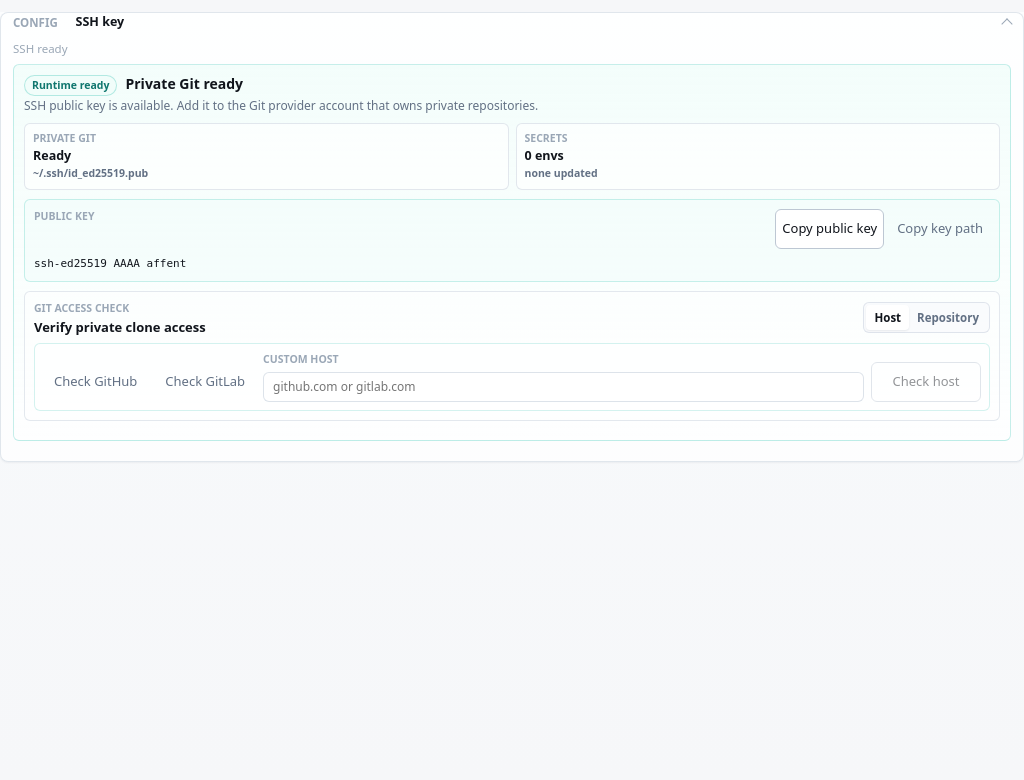
Test: AccountSettingsPanel › diagnoses failed git checks with an actionable cause
Click the tab "Repository".
click(948, 318)  # box x1=909 y1=305 x2=987 y2=330
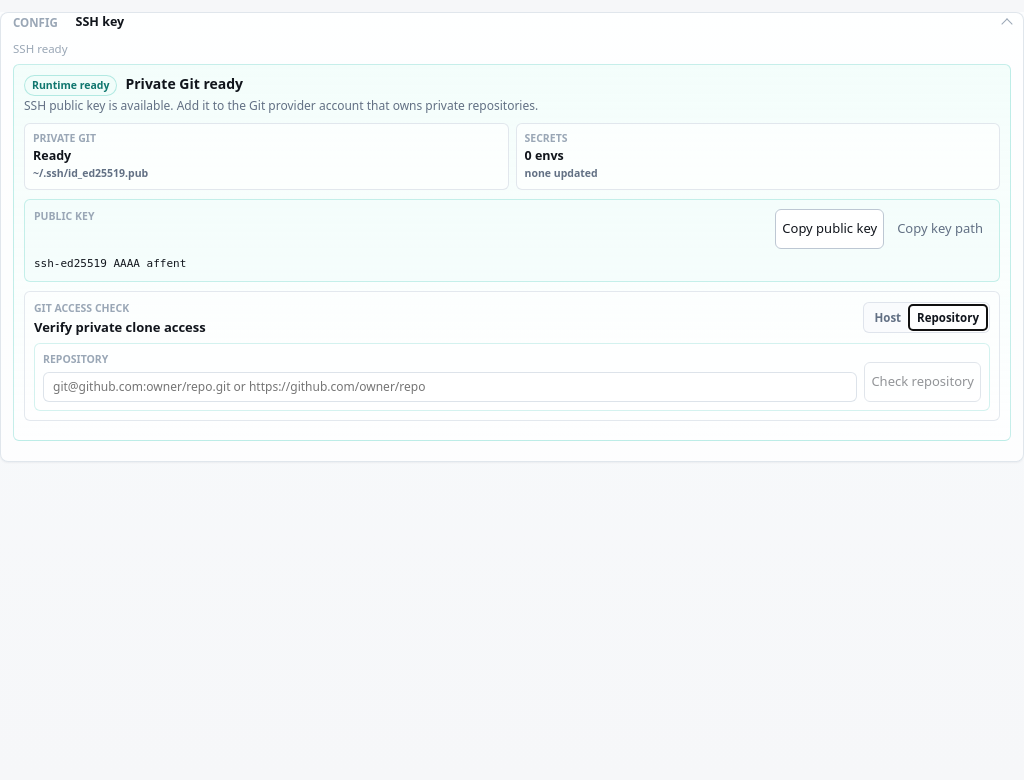
Type "git@github.com:team/private.git" into the field with placeholder "git@github.com:owner/repo.git or https://github.com/owner/repo".
click(450, 387); type("git@github.com:team/private.git")  # box x1=43 y1=372 x2=857 y2=402
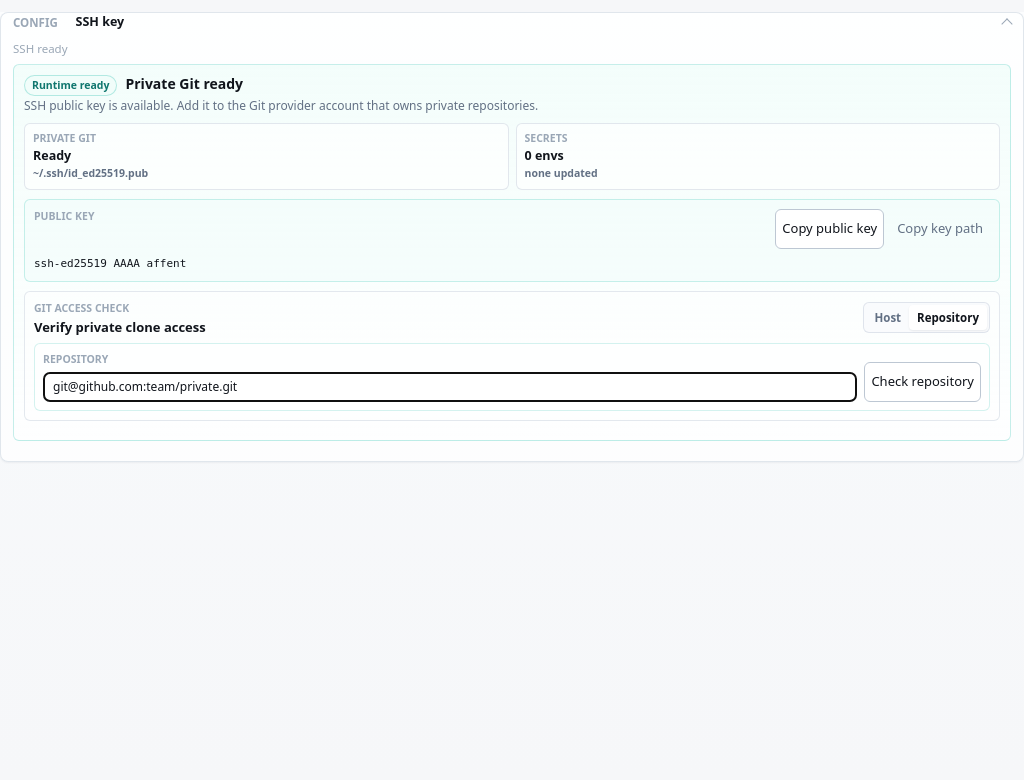
Click the button "Check repository".
click(923, 382)  # box x1=864 y1=362 x2=981 y2=402
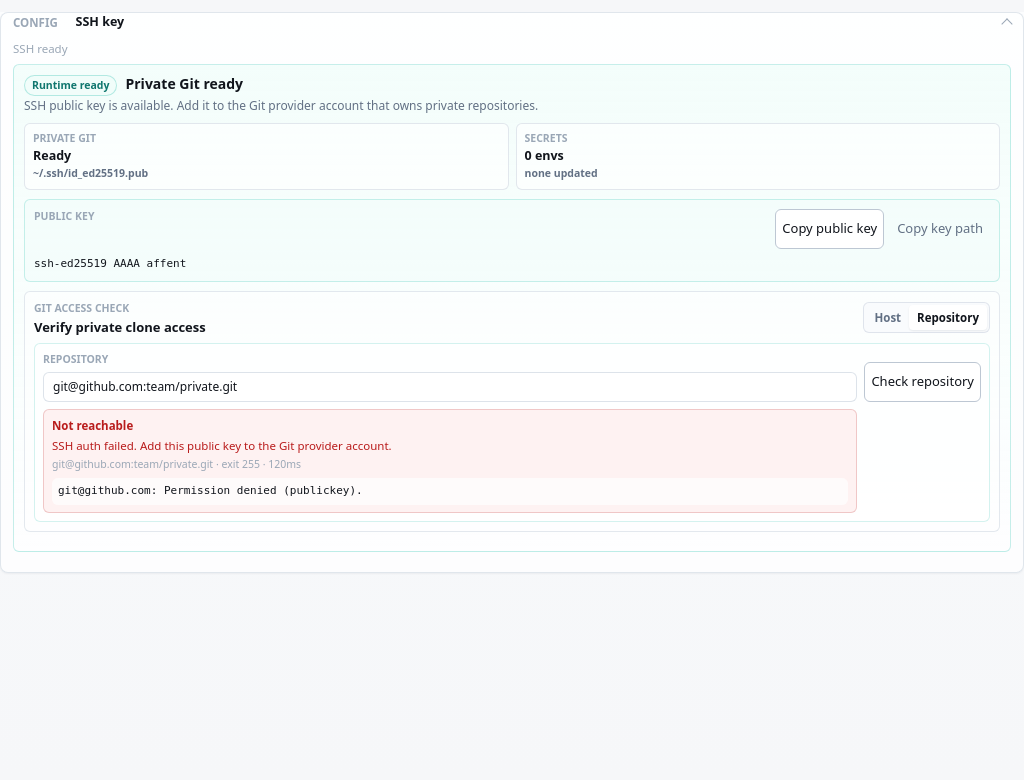
Now the message shows "Not reachable", box x1=52 y1=418 x2=133 y2=433
Now the message shows "SSH auth failed. Add this public key to the Git provider account.", box x1=52 y1=438 x2=392 y2=453
Now the message shows "git@github.com:team/private.git · exit 255 · 120ms", box x1=52 y1=457 x2=301 y2=471
